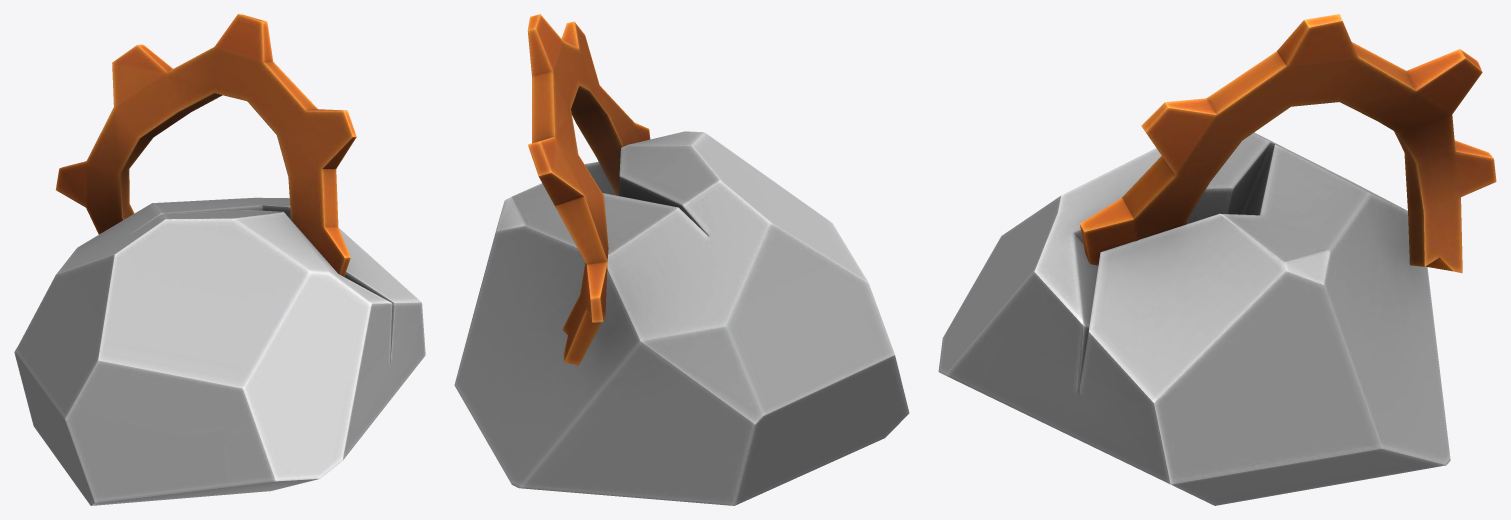
File: obj_stone03_base.gltf
The picture shows the model from 3 angles, left to right: view 1: azimuth 30°, elevation 25°; view 2: azimuth 150°, elevation 25°; view 3: azimuth 270°, elevation 25°; orthographic projection. The views are drawn at different scales.
Visible parts, largest first — view 1: obj_stone03_base; view 2: obj_stone03_base; view 3: obj_stone03_base.
Part boxes in pixels (<box>): obj_stone03_base: <box>14,14,425,505</box>; obj_stone03_base: <box>454,14,909,505</box>; obj_stone03_base: <box>938,14,1496,505</box>.
Size of what is drawn, in the model's own units: 1.08 by 1.05 by 1.15.
1 material, 1 textured.
